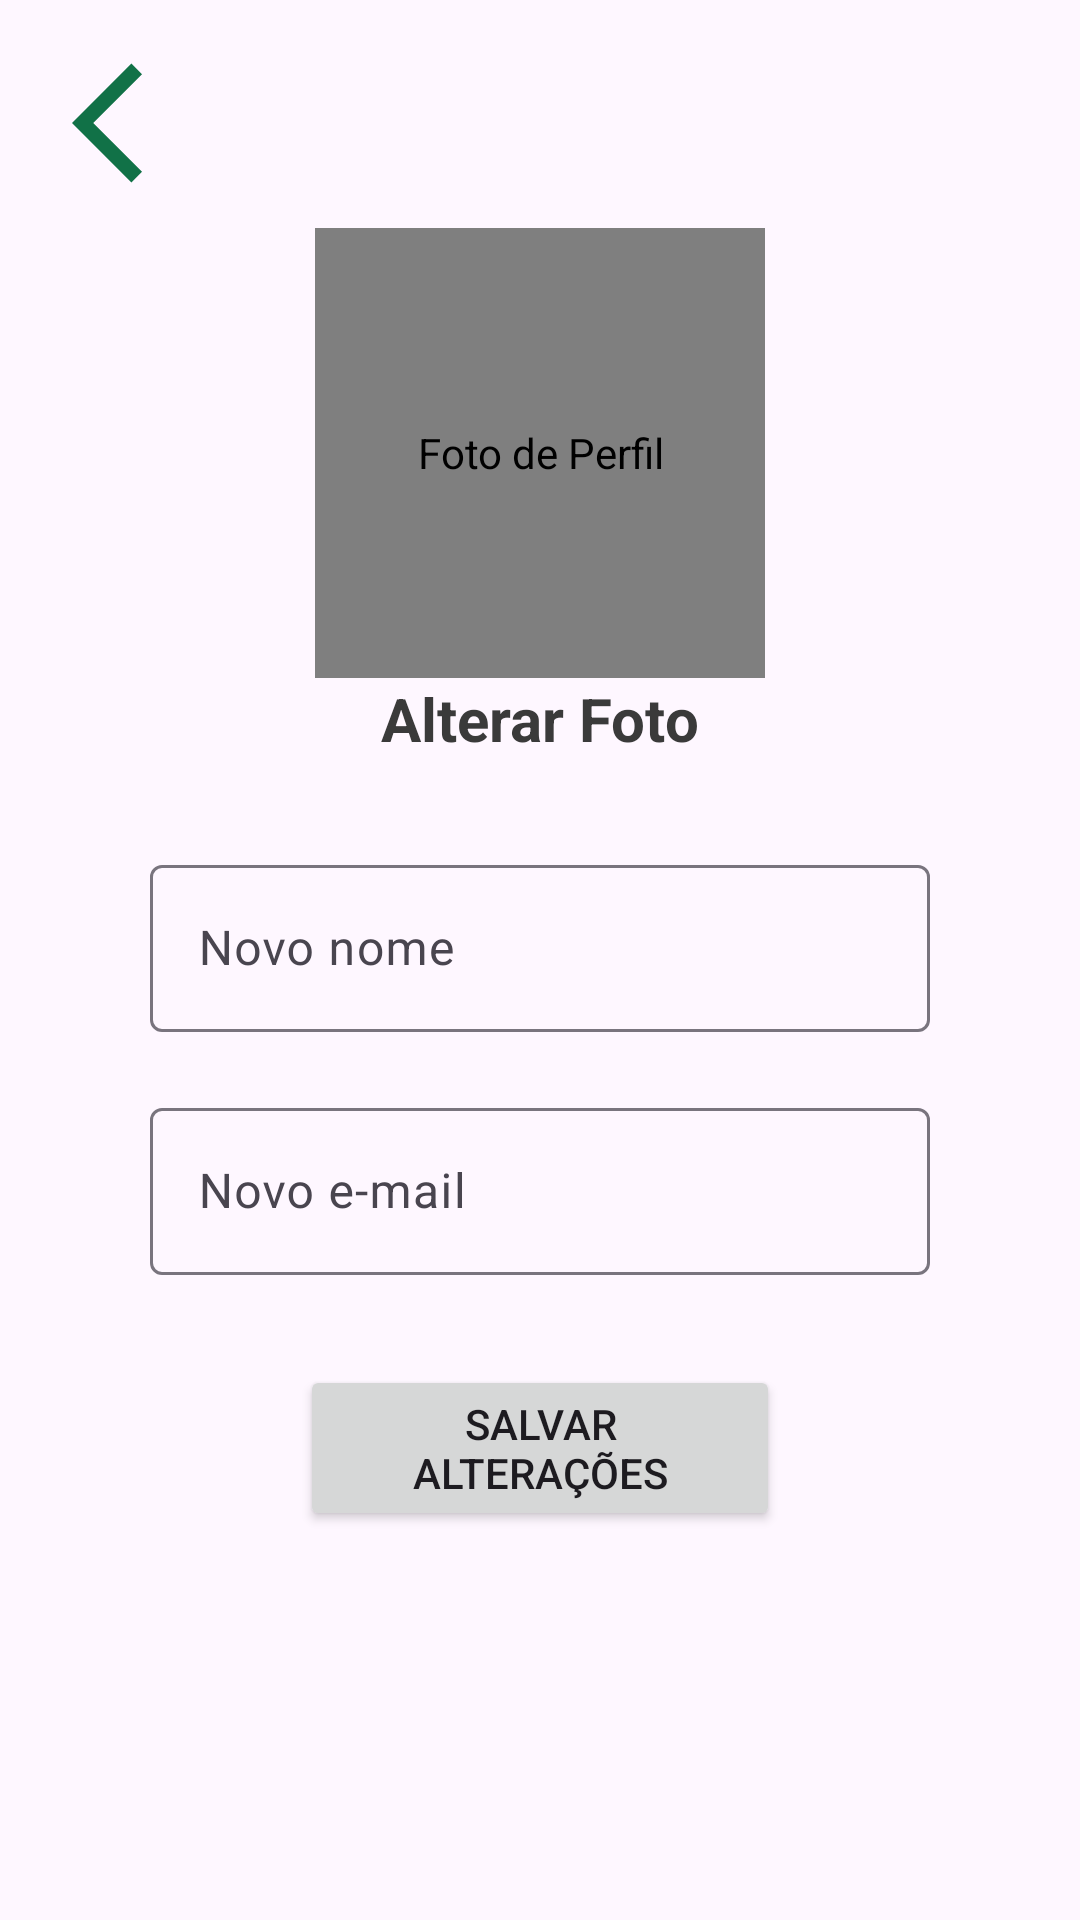

Named icons in this screenshot (1080x1920) and their bounding boxes, (x1, y1, x2, y2):
Voltar: (72, 63, 142, 183)
